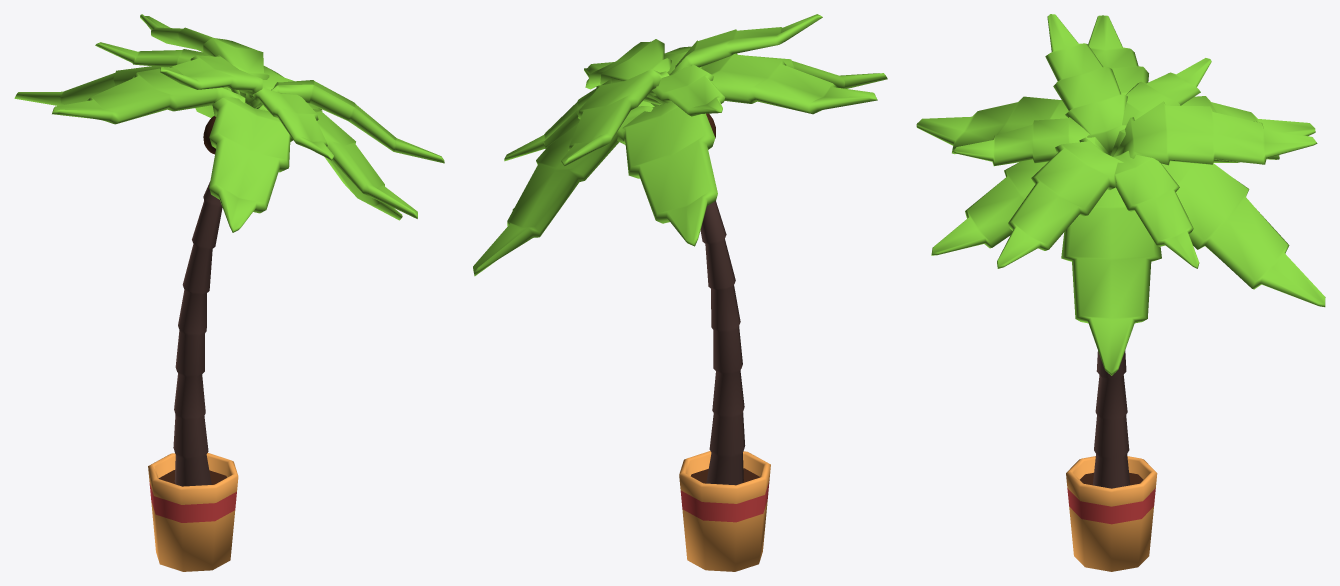
The model's file is palm tree vase.fbx.
3 views of the same model, side by side, from view 1: azimuth 30°, elevation 25°; view 2: azimuth 150°, elevation 25°; view 3: azimuth 270°, elevation 25° (orthographic). The views are drawn at different scales.
Parts seen in each view (by area): view 1: Circle.001, vase, Plane.016, Plane.015, Plane.018, Plane.017, Plane.020, Plane.023, Plane.022, Plane.014, Plane.021, Plane.012; view 2: Plane.014, vase, Circle.001, Plane.013, Plane.015, Plane.020, Plane.022, Plane.021, Plane.018, Plane.019, Plane.016; view 3: Plane.012, Plane.013, Plane.020, vase, Plane.018, Plane.022, Plane.019, Plane.017, Circle.001, Plane.016, Plane.023, Plane.021 (+2 smaller).
Part boxes in pixels (x1,y1,x2,y2): Circle.001: (173,181,222,486); vase: (148,453,238,571); Plane.016: (209,97,293,232); Plane.015: (52,66,245,124); Plane.018: (256,80,444,163); Plane.017: (258,105,417,218); Plane.020: (140,14,269,79); Plane.023: (245,87,334,160); Plane.022: (160,55,262,108); Plane.014: (14,66,227,106); Plane.021: (95,42,240,94); Plane.012: (324,157,402,220); Plane.014: (617,102,717,246); vase: (679,451,770,571); Circle.001: (700,201,745,485); Plane.013: (473,106,652,276); Plane.015: (703,53,877,114); Plane.020: (561,69,669,165); Plane.022: (669,14,822,75); Plane.021: (649,64,725,116); Plane.018: (584,39,671,89); Plane.019: (504,78,661,161); Plane.016: (702,55,887,88); Plane.012: (1061,187,1161,375); Plane.013: (1161,161,1325,307); Plane.020: (1113,101,1317,165); vase: (1066,456,1157,571); Plane.018: (997,137,1123,268); Plane.022: (1045,14,1127,155); Plane.019: (1113,151,1199,268); Plane.017: (931,159,1047,255); Circle.001: (1093,350,1130,488); Plane.016: (916,96,1068,154); Plane.023: (952,117,1109,166); Plane.021: (1110,58,1211,156).
Size of the model in its own units: 2397 by 3405 by 2462.
